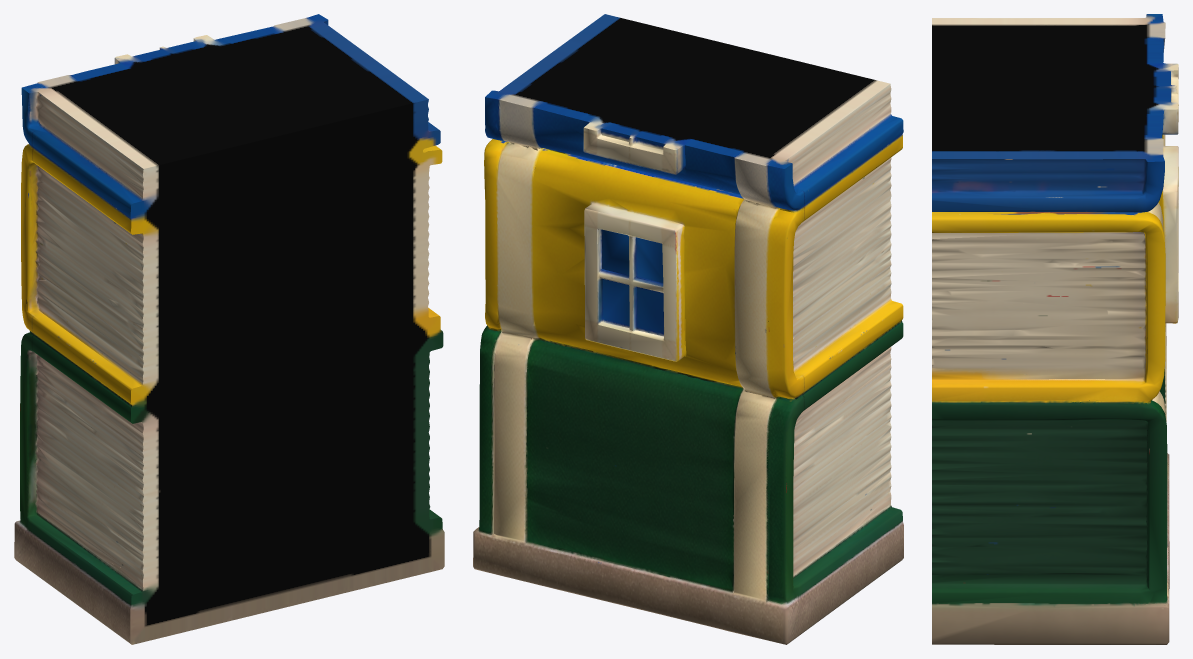
Rendered from 3-ground-floor-back-left.fbx.
The picture shows the model from 3 angles, left to right: view 1: azimuth 30°, elevation 25°; view 2: azimuth 150°, elevation 25°; view 3: azimuth 270°, elevation 25°; orthographic projection.
Parts seen in each view (by area): view 1: ground-floor-back-left; view 2: ground-floor-back-left; view 3: ground-floor-back-left.
Boxes of the visible parts, x1,y1,x2,y2 form: ground-floor-back-left: (14, 14, 444, 644); ground-floor-back-left: (473, 14, 903, 644); ground-floor-back-left: (932, 14, 1178, 644).
Size of the model in its own units: 3931 by 5651 by 2641.
1 material, 1 textured.
